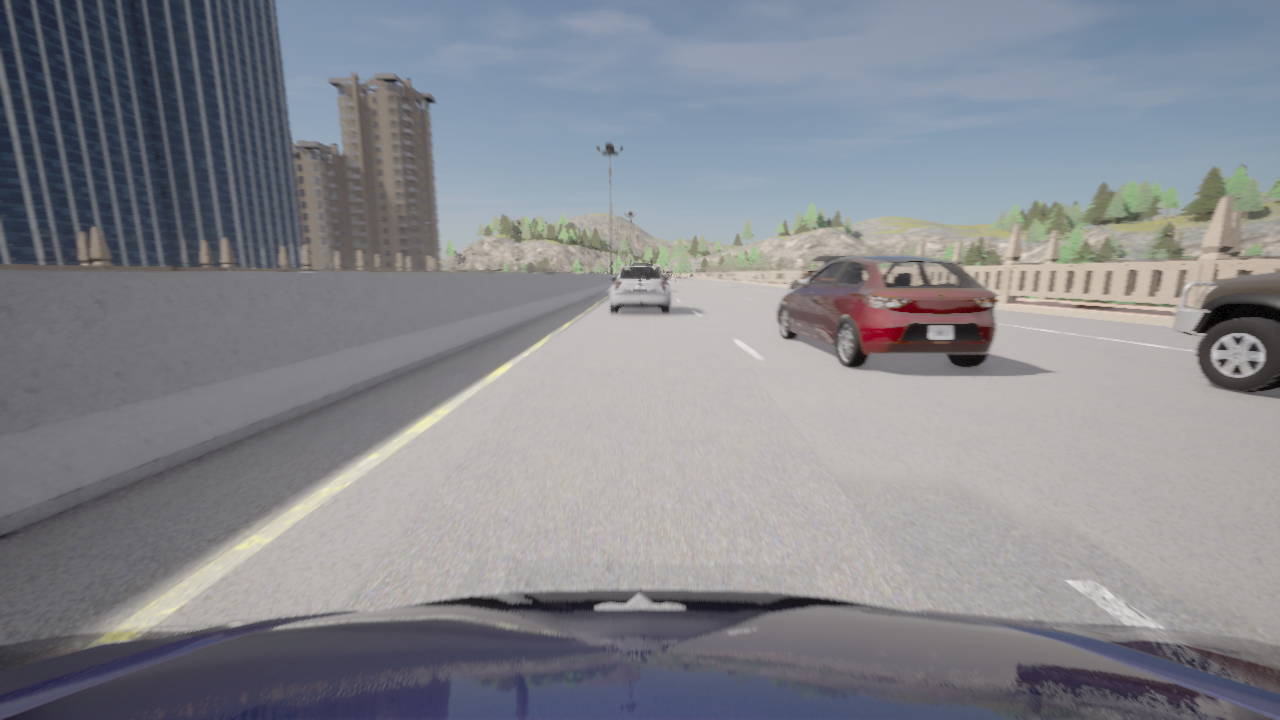cyclist: (0, 588, 1279, 719), (776, 255, 997, 367), (1171, 271, 1279, 391), (609, 265, 670, 313), (788, 254, 858, 291)
